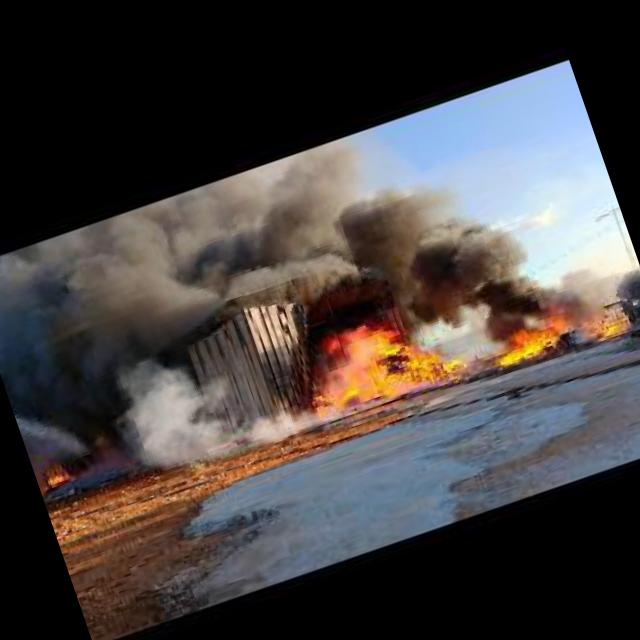fire: (294, 287, 466, 415), (483, 300, 572, 366), (198, 427, 243, 455), (33, 459, 66, 492), (594, 312, 616, 336)
smoke: (0, 111, 461, 386)
